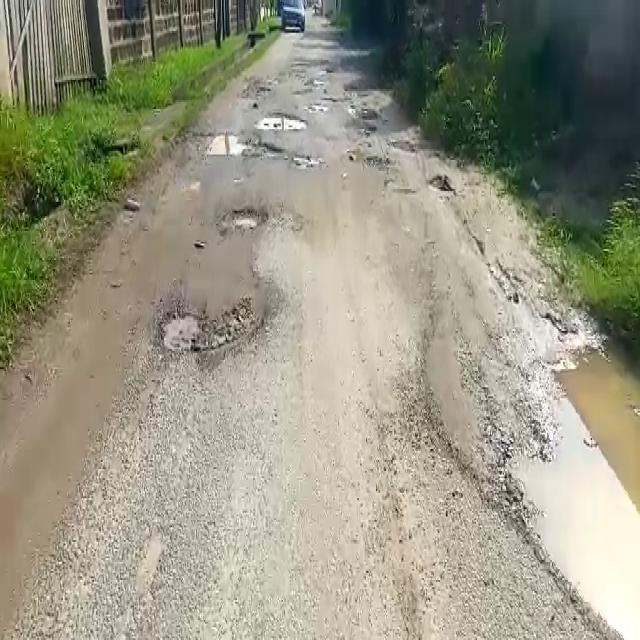pothole: (502, 336, 639, 639), (159, 308, 253, 353), (192, 132, 255, 158), (227, 206, 266, 235), (254, 113, 308, 132)
